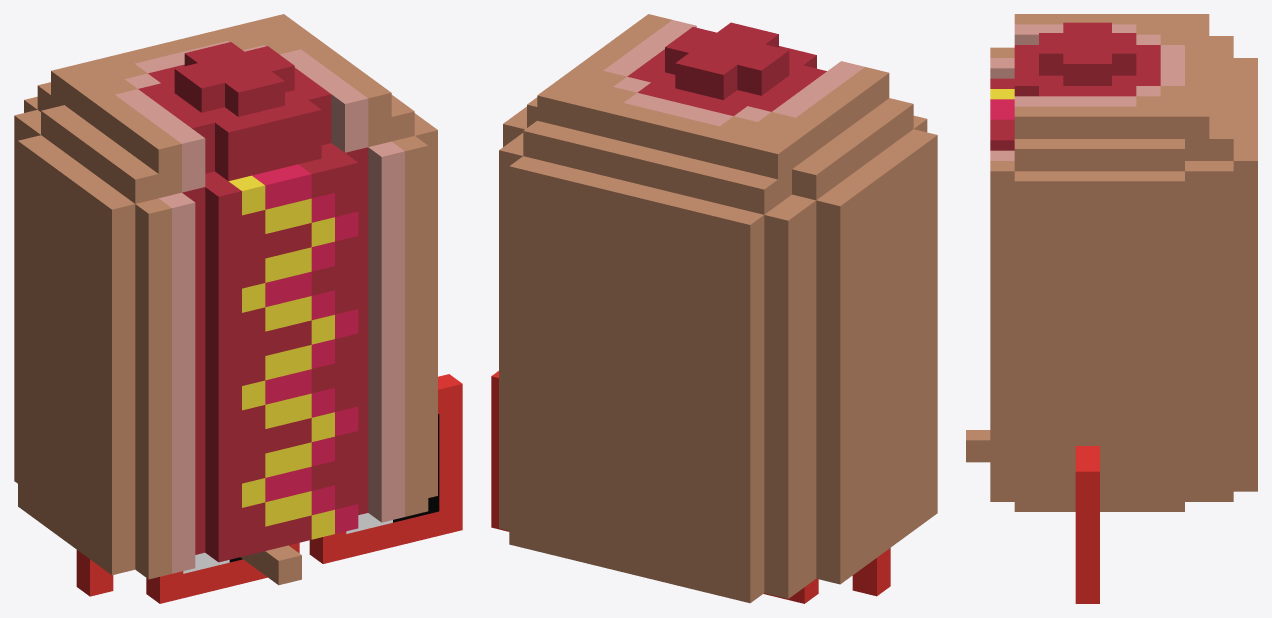
Rendered from hotdog.glb.
The picture shows the model from 3 angles, left to right: view 1: azimuth 30°, elevation 25°; view 2: azimuth 150°, elevation 25°; view 3: azimuth 270°, elevation 25°; orthographic projection. The views are drawn at different scales.
Visible parts, largest first — view 1: base, glasses, t3 (1), layer-2; view 2: base, glasses; view 3: base, glasses, t3 (1).
Part boxes in pixels (x1,y1,x2,y2): base: [14, 14, 437, 579]; glasses: [76, 374, 462, 603]; t3 (1): [240, 545, 301, 585]; layer-2: [183, 414, 439, 573]; base: [499, 14, 937, 603]; glasses: [491, 371, 890, 603]; base: [990, 14, 1257, 511]; glasses: [1075, 446, 1099, 603]; t3 (1): [966, 430, 990, 462].
Size of the model in its own units: 16.5 by 21 by 12.
11 materials, 11 textured.
